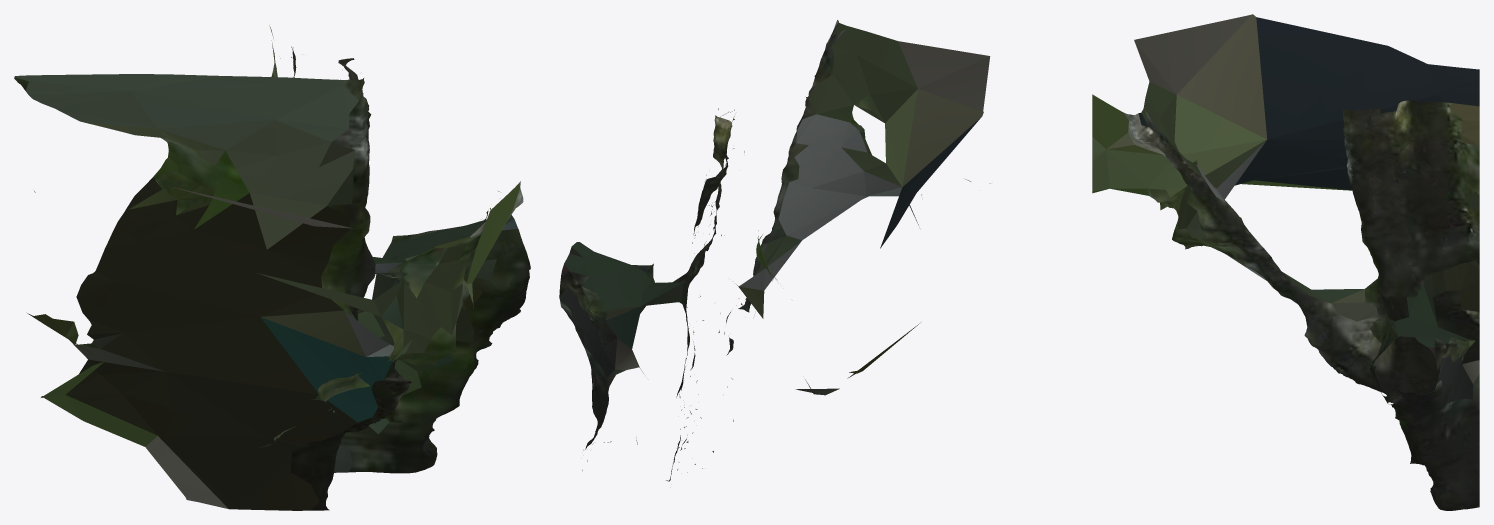
The picture shows the model from 3 angles, left to right: view 1: azimuth 30°, elevation 25°; view 2: azimuth 150°, elevation 25°; view 3: azimuth 270°, elevation 25°; orthographic projection. The views are drawn at different scales.
Size of the model in its own units: 1.97 by 1.97 by 1.97.
Materials: 1 (1 with a texture image).
